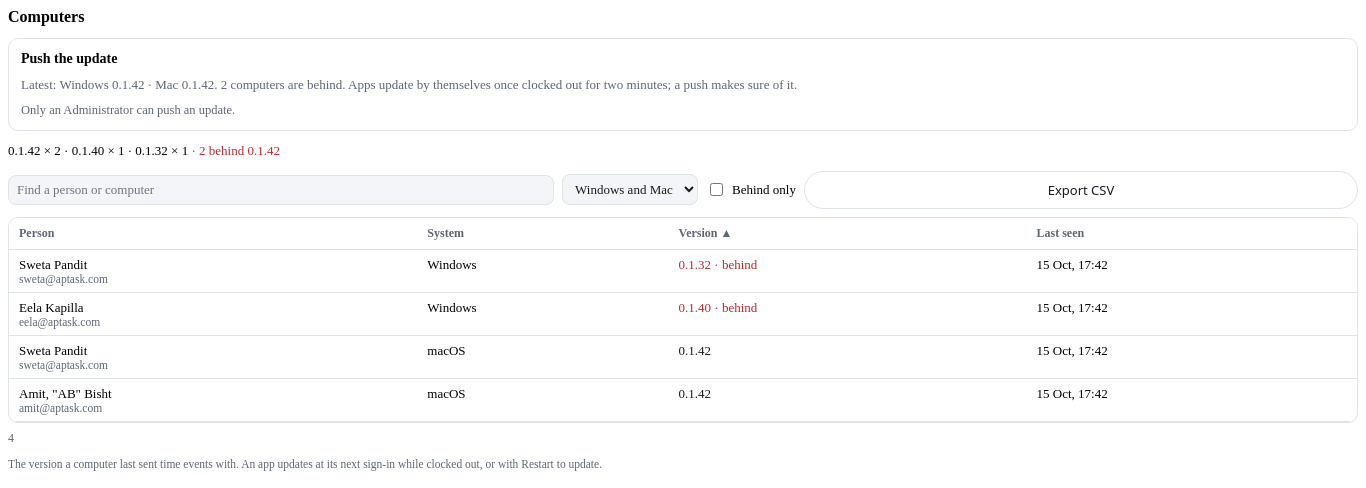
Test: Computers → Export CSV and Email to update › exports the rows as shown, quoted, with up to date against the published version
This screenshot has width=1366, height=488.
Expected: the table named "computers-table" is shown, [9,218,1357,422]
Type "aptask.com" into the field named "computers-table-find" at (281, 190), box [8,174,554,204]
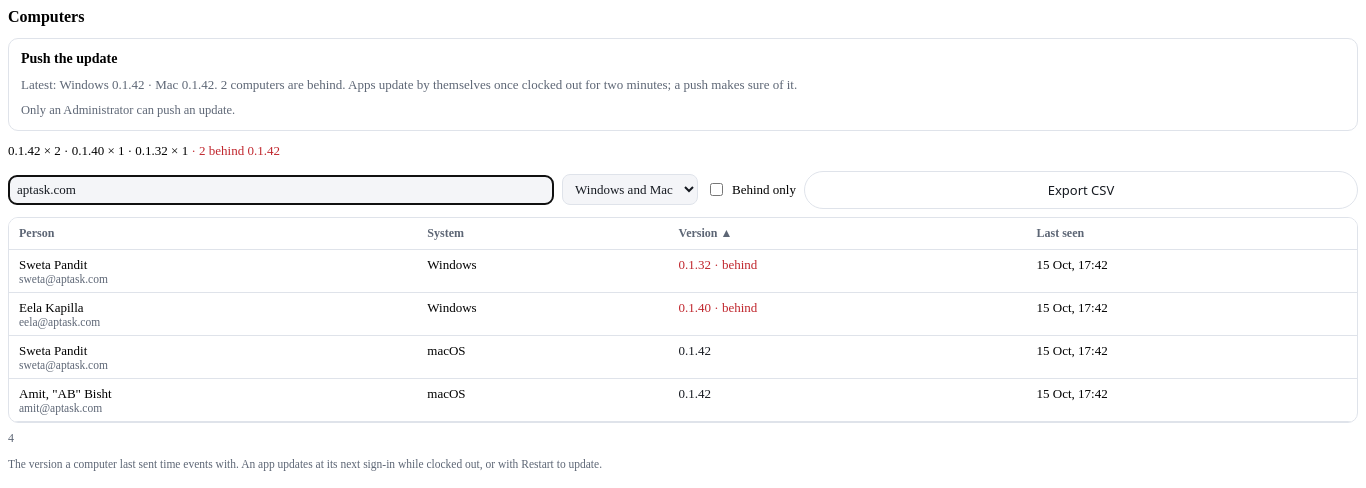
Select "Mac" in the dropdown named "filter-os" at (630, 190), box [562,174,698,205]
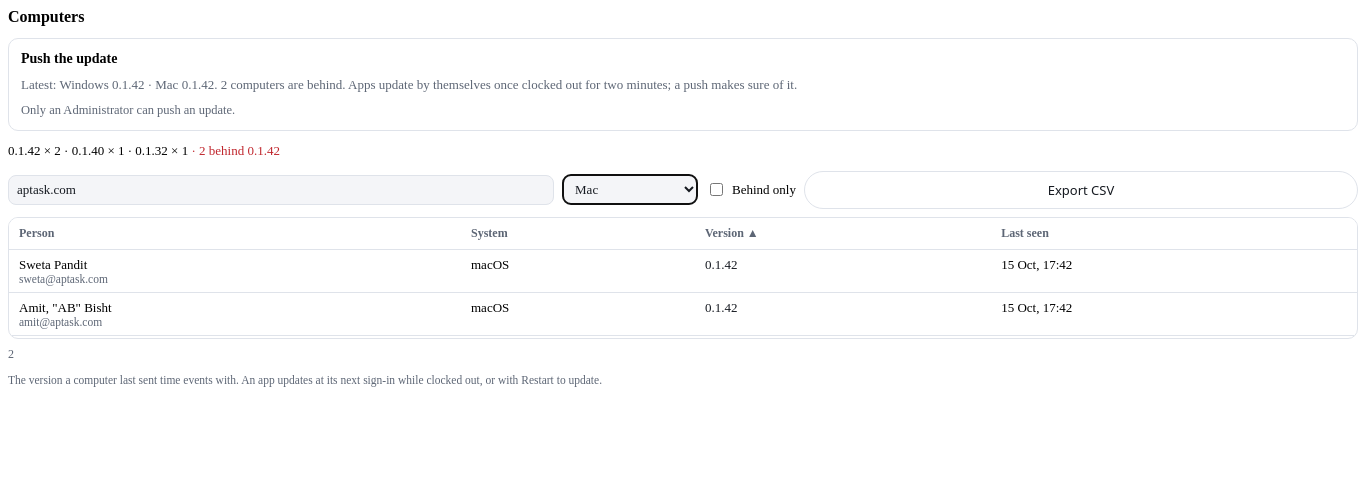
Click the button "Export CSV" at (1081, 190), box [804,170,1358,208]
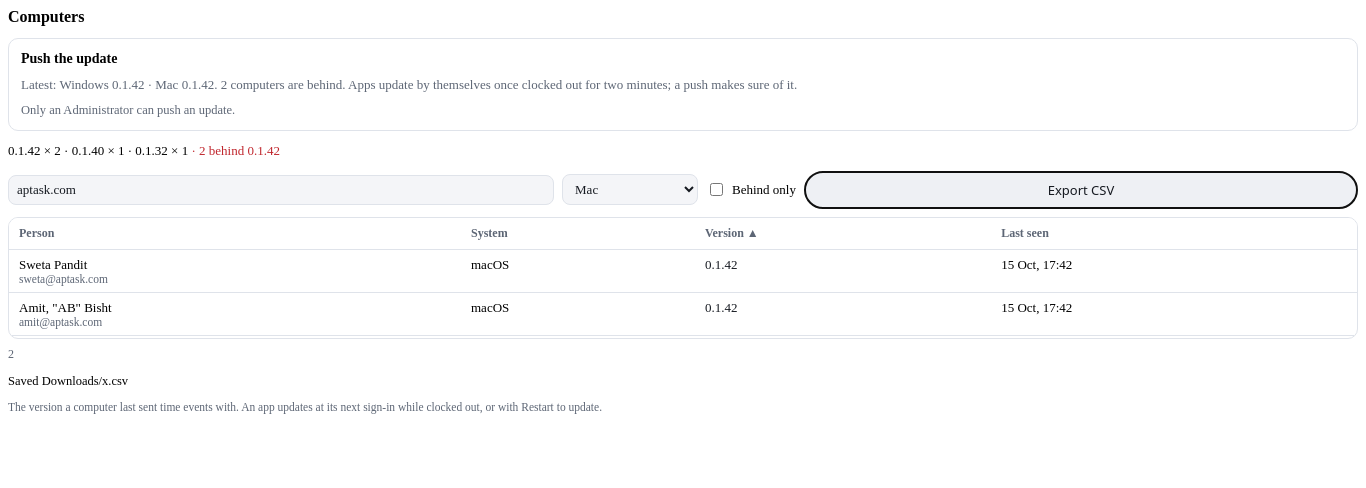
Expected: the text "Saved Downloads/x.csv" is shown, [8,374,128,388]
